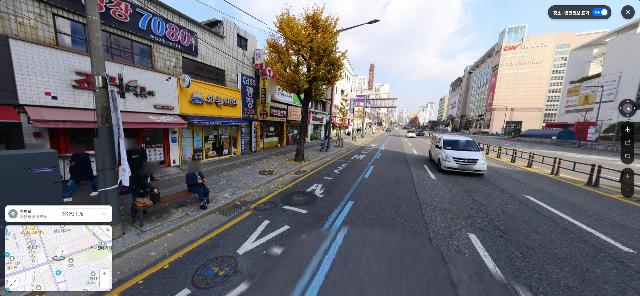ginkgo: (261, 3, 349, 162), (332, 96, 357, 147)
